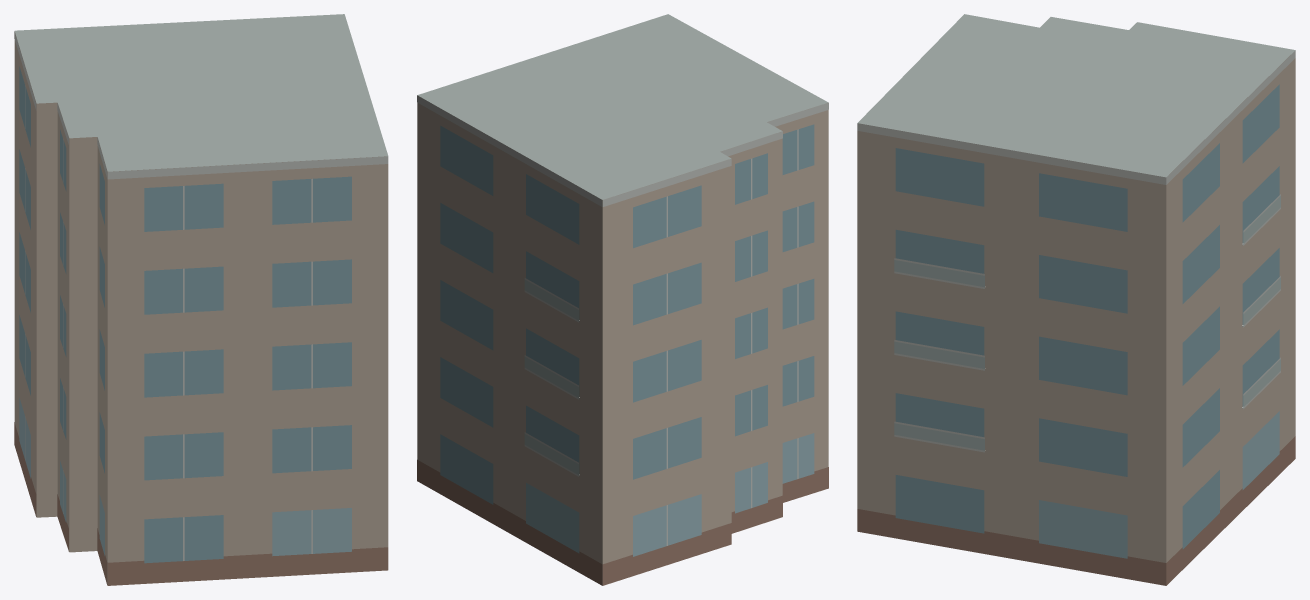
The model's file is survey-upis-32868894.glb.
3 renders of one model, left to right at view 1: azimuth 30°, elevation 25°; view 2: azimuth 150°, elevation 25°; view 3: azimuth 270°, elevation 25°, orthographic. The views are drawn at different scales.
Visible parts, largest first — view 1: survey-upis-32868894.tmp; view 2: survey-upis-32868894.tmp; view 3: survey-upis-32868894.tmp.
Part boxes in pixels (<box>): survey-upis-32868894.tmp: <box>14,14,388,585</box>; survey-upis-32868894.tmp: <box>417,14,828,585</box>; survey-upis-32868894.tmp: <box>857,14,1295,585</box>.
Size of the model in its own units: 11.16 by 13 by 12.65.
